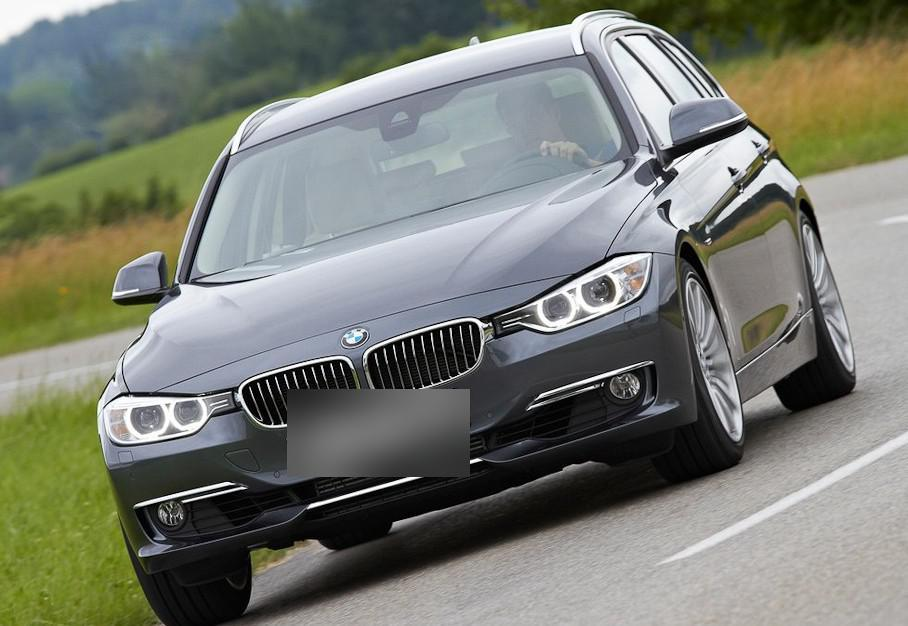Wagon: (96, 12, 857, 626)
